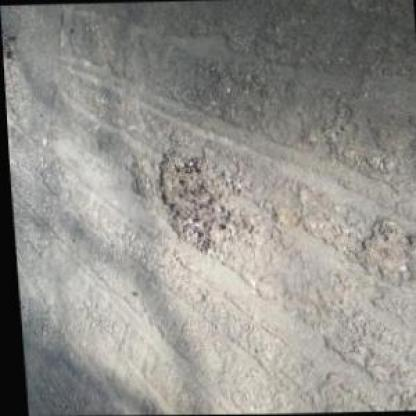pothole: (150, 143, 244, 261), (125, 161, 151, 198)
